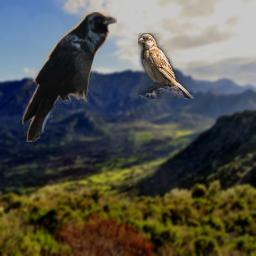Crow: (22, 12, 117, 142)
Sparrow: (138, 33, 194, 99)
